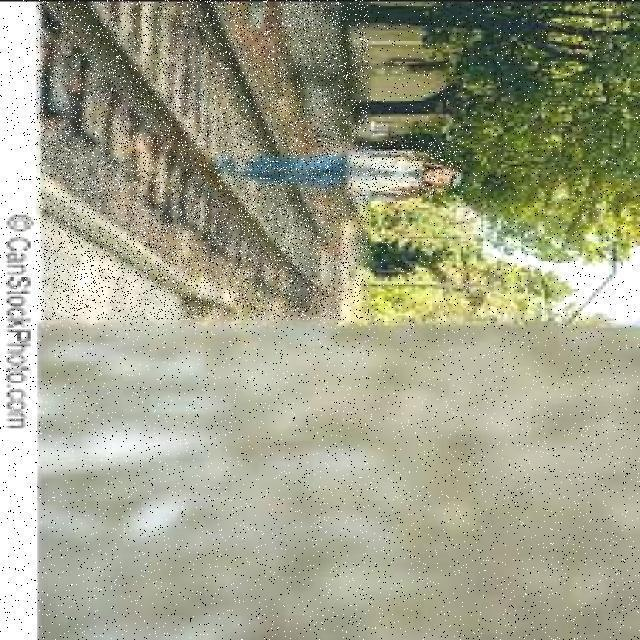rail: (38, 1, 370, 321)
